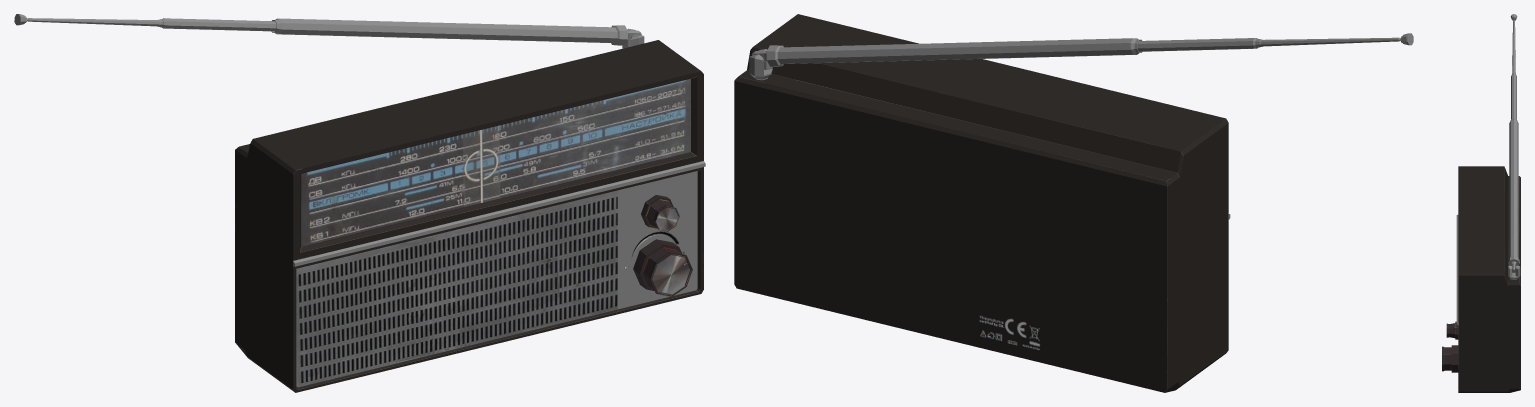
File: radio_transistor.glb
The picture shows the model from 3 angles, left to right: view 1: azimuth 30°, elevation 25°; view 2: azimuth 150°, elevation 25°; view 3: azimuth 270°, elevation 25°; orthographic projection. The views are drawn at different scales.
Parts seen in each view (by area): view 1: Radio_lowPoly_Versia 2; view 2: Radio_lowPoly_Versia 2; view 3: Radio_lowPoly_Versia 2.
Part boxes in pixels (x1,y1,x2,y2): Radio_lowPoly_Versia 2: (14,14,705,392); Radio_lowPoly_Versia 2: (734,14,1413,392); Radio_lowPoly_Versia 2: (1442,14,1520,392).
Size of the model in its own units: 104 by 62.18 by 20.87.
1 material, 1 textured.
